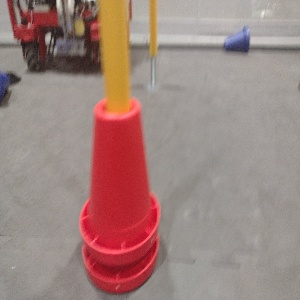Blue_1: (222, 24, 251, 54)
Red_2: (73, 91, 162, 290)
